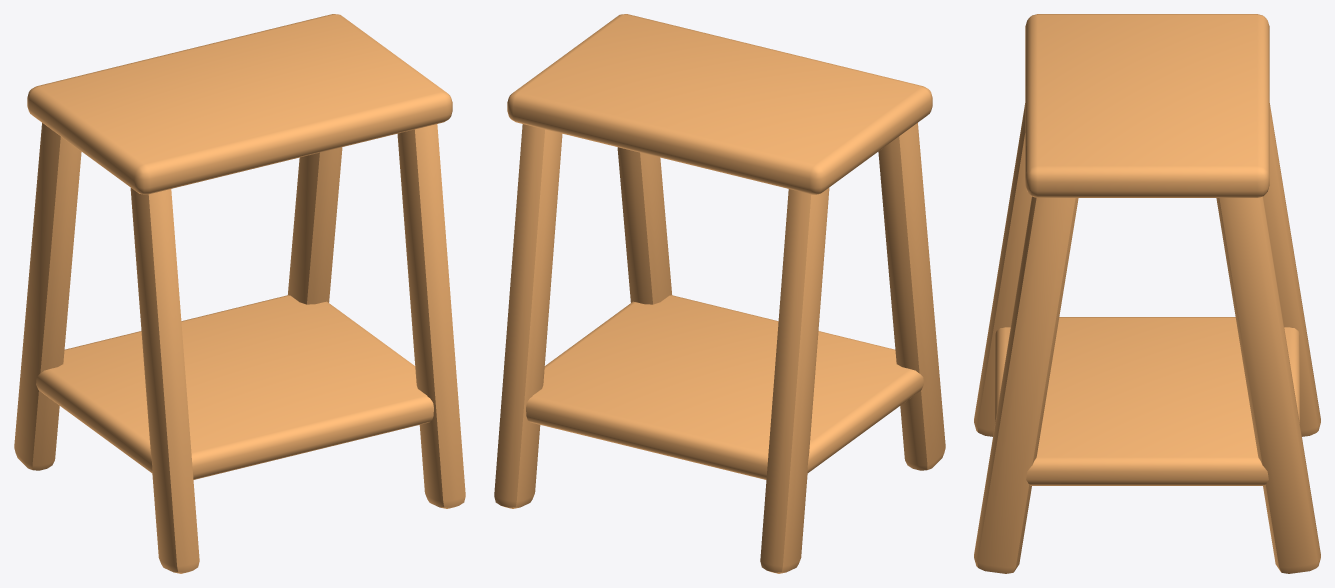
File: criado_cavalete_laranja.glb
3 renders of one model, left to right at view 1: azimuth 30°, elevation 25°; view 2: azimuth 150°, elevation 25°; view 3: azimuth 270°, elevation 25°, orthographic. The views are drawn at different scales.
Visible parts, largest first — view 1: criado_cavalete_laranja; view 2: criado_cavalete_laranja; view 3: criado_cavalete_laranja.
Part boxes in pixels (x1,y1,x2,y2): criado_cavalete_laranja: (14,14,465,573); criado_cavalete_laranja: (494,14,945,573); criado_cavalete_laranja: (974,14,1320,573).
Bounding box in the file's own units: 0.5 × 0.598 × 0.4547.
Materials: 1 (1 with a texture image).
